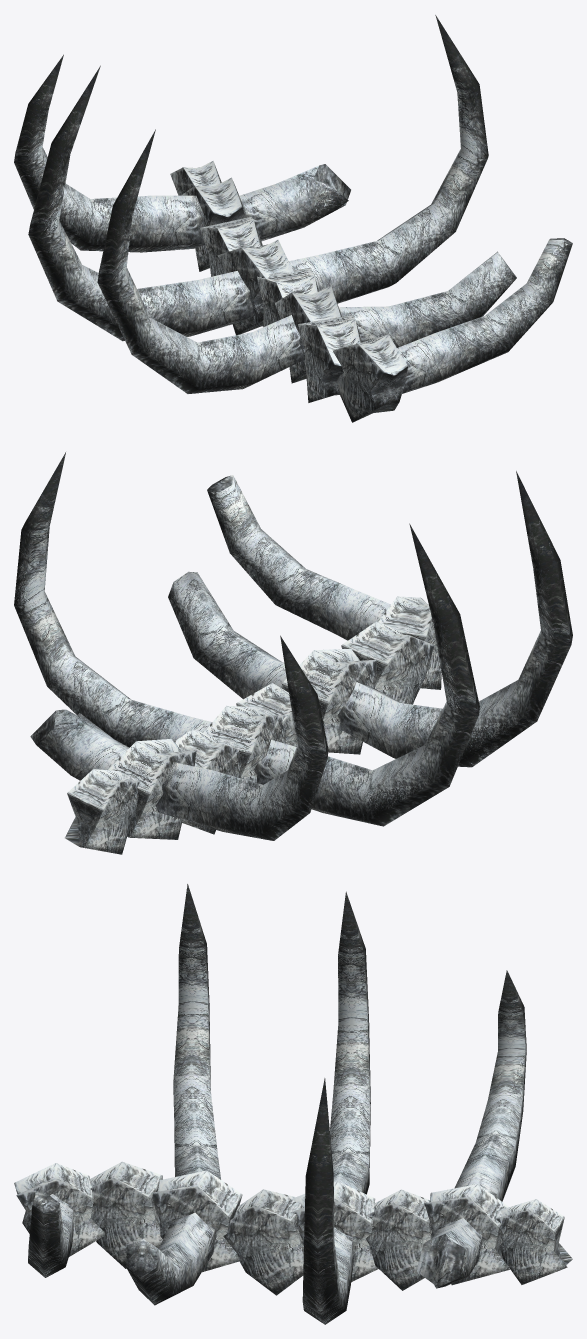
Rendered from ice_dragonbone_04.glb.
3 views of the same model, one above another, from view 1: azimuth 30°, elevation 25°; view 2: azimuth 150°, elevation 25°; view 3: azimuth 270°, elevation 25° (orthographic). The views are drawn at different scales.
Visible parts, largest first — view 1: ice_dragonbone_04; view 2: ice_dragonbone_04; view 3: ice_dragonbone_04.
Boxes of the visible parts, x1,y1,x2,y2 form: ice_dragonbone_04: [14, 15, 572, 422]; ice_dragonbone_04: [14, 452, 572, 854]; ice_dragonbone_04: [14, 884, 572, 1324].
Size of the model in its own units: 14.47 by 9.31 by 15.02.
1 material, 1 textured.
